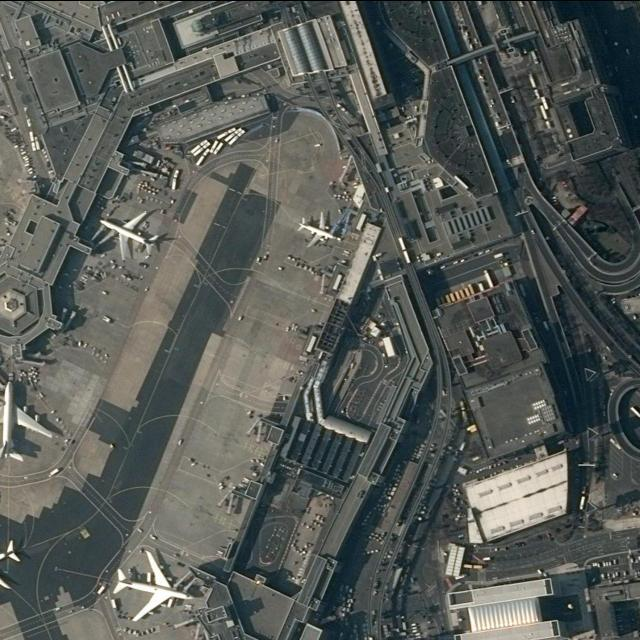Aircraft: (111, 547, 199, 623), (0, 377, 56, 468), (99, 209, 161, 256), (297, 208, 341, 246), (0, 523, 22, 590)
